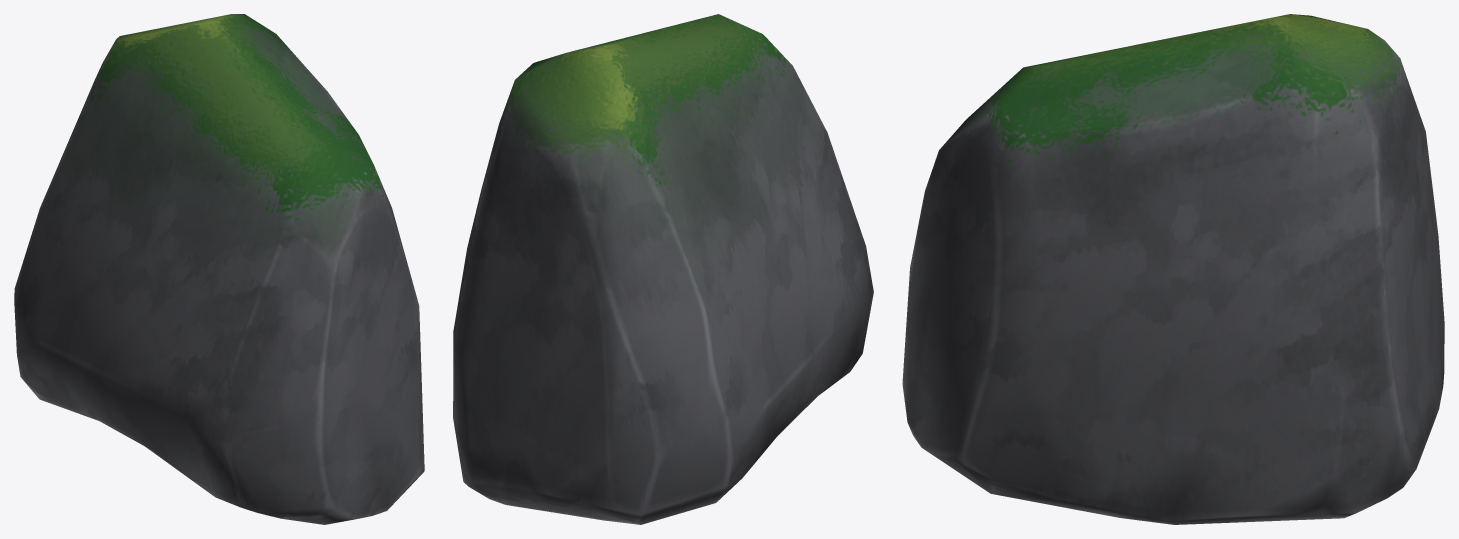
File: Stone5_v1_moss.fbx
3 renders of one model, left to right at view 1: azimuth 30°, elevation 25°; view 2: azimuth 150°, elevation 25°; view 3: azimuth 270°, elevation 25°, orthographic. The views are drawn at different scales.
Visible parts, largest first — view 1: Stone5_v1_moss; view 2: Stone5_v1_moss; view 3: Stone5_v1_moss.
Boxes of the visible parts, x1,y1,x2,y2 form: Stone5_v1_moss: [14, 14, 424, 524]; Stone5_v1_moss: [453, 14, 873, 524]; Stone5_v1_moss: [902, 14, 1444, 524].
Bounding box in the file's own units: 132 × 185 × 200.
1 material, 1 textured.
